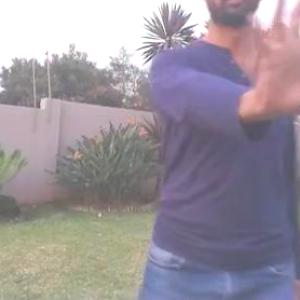follow_hand: (243, 0, 299, 124)
